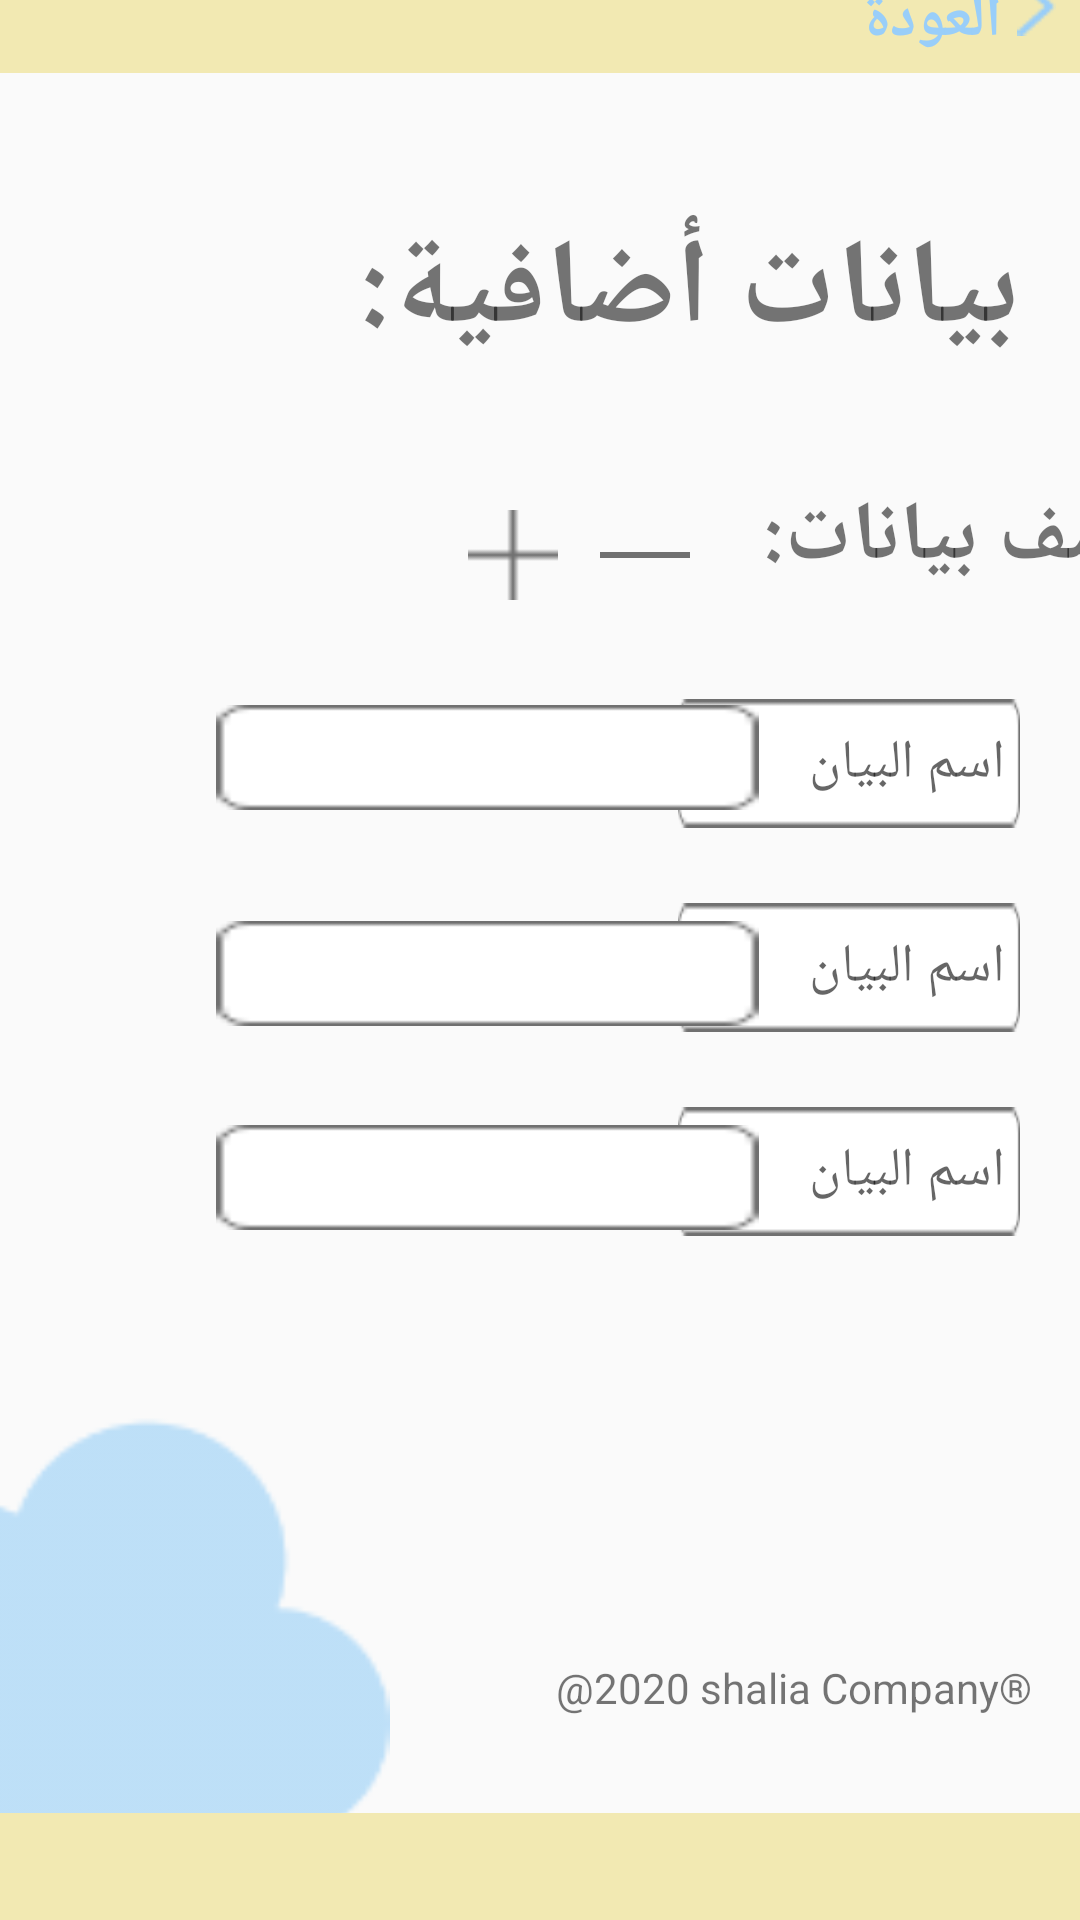

Screen size 1080px x 1920px. Icon name, then its box in pixels as (x1, y1, x2, y2):
plus: (468, 510, 558, 600)
